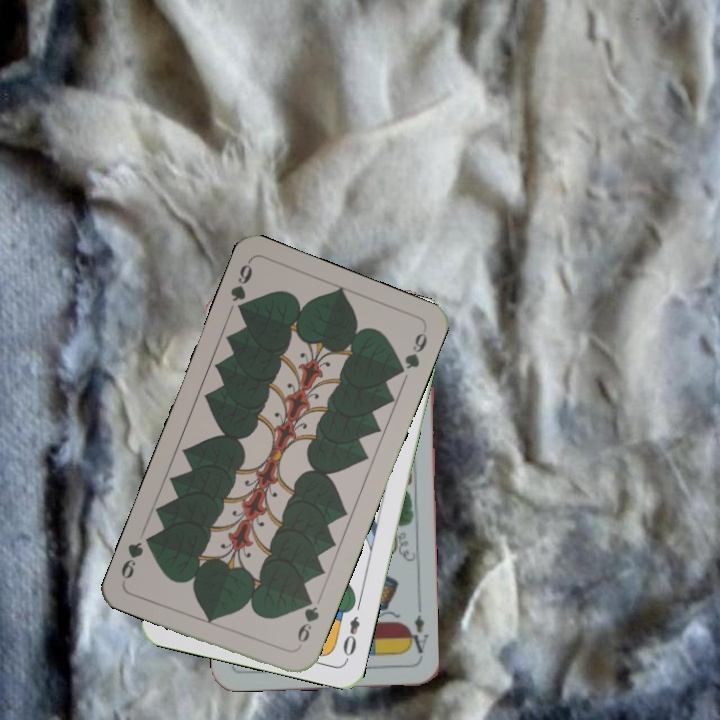EA: (403, 611, 430, 656)
EO: (339, 612, 363, 663)
G9: (226, 257, 255, 318), (293, 593, 322, 646)
